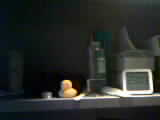duck: (52, 73, 80, 101)
